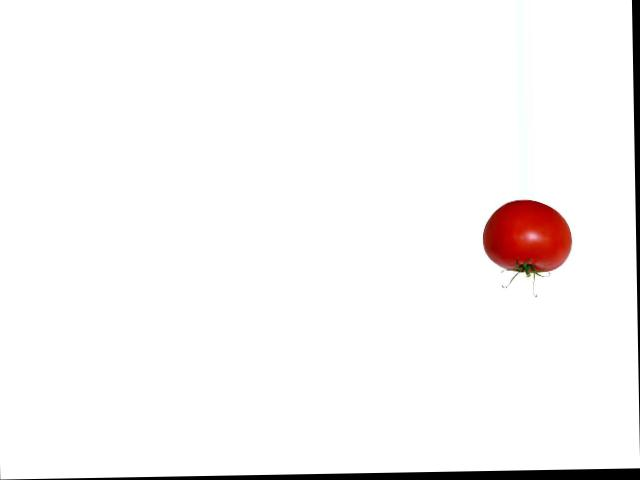tomato: (482, 198, 573, 273)
